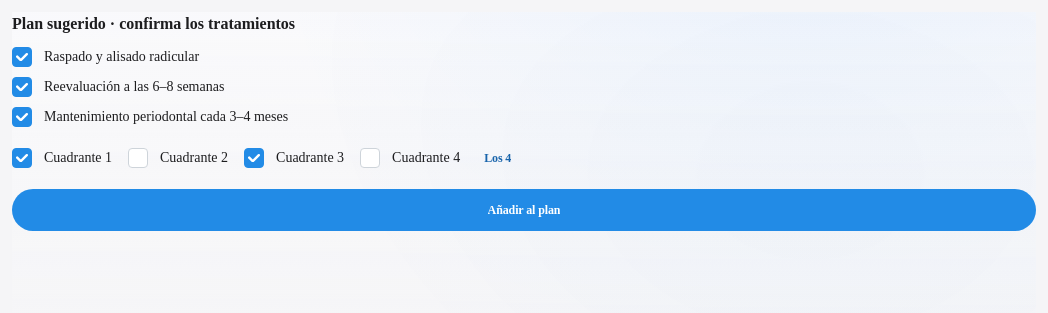
Test: preselects affected quadrants, permits all four and creates selected items only
The width and height of the screenshot is (1048, 313).
expect the checkbox labelled "Cuadrante 1" is checked: met, box [12,148,32,168]
expect the checkbox labelled "Cuadrante 3" is checked: met, box [244,148,264,168]
Step 1. Click the checkbox labelled "Reevaluación a las 6–8 semanas" → (22, 87), box [12,77,32,97]
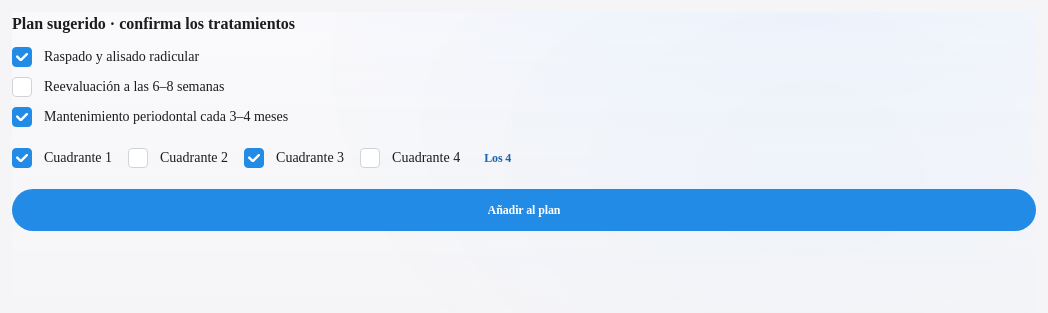
Step 2. Click the checkbox labelled "Mantenimiento periodontal cada 3–4 meses" → (22, 117), box [12,107,32,127]
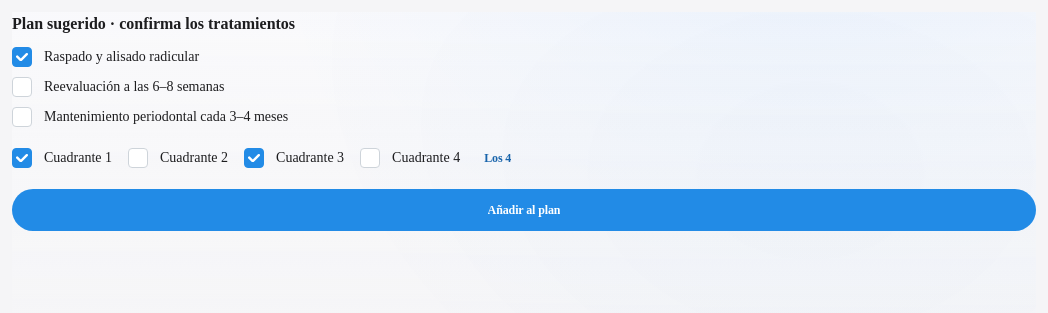
Step 3. Click the button "Los 4" → (498, 158), box [476,137,519,179]
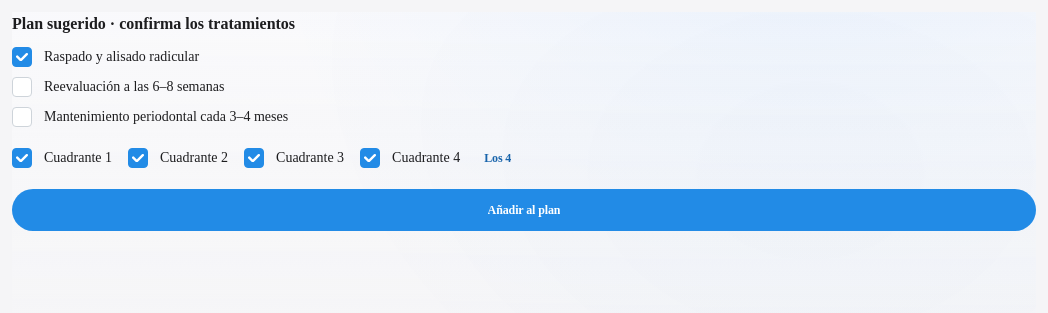
Step 4. Click the checkbox labelled "Cuadrante 2" → (138, 158), box [128,148,148,168]
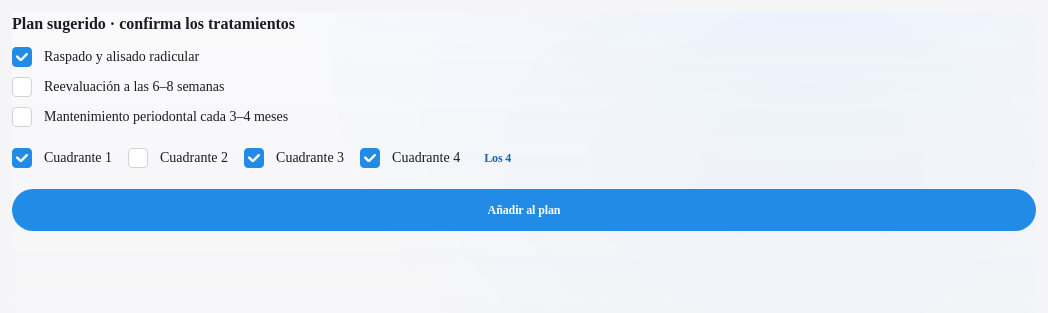
Step 5. Click the checkbox labelled "Cuadrante 4" → (370, 158), box [360,148,380,168]
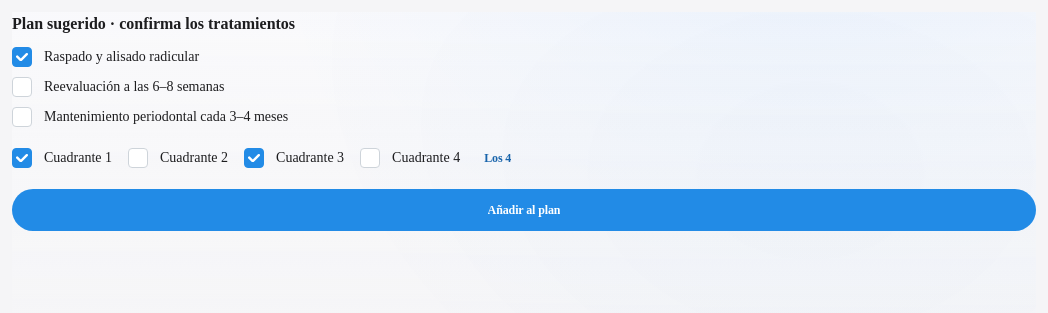
Step 6. Click the button "Añadir al plan" → (524, 210), box [12,189,1036,231]
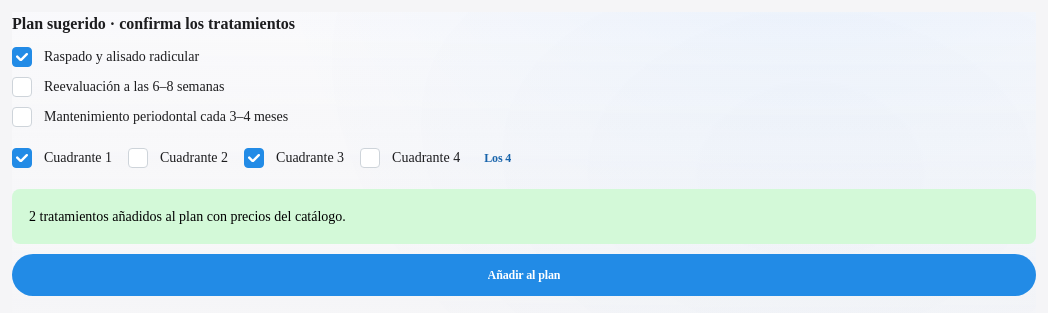
expect the message shows "2 tratamientos": met, box [12,189,1036,244]
